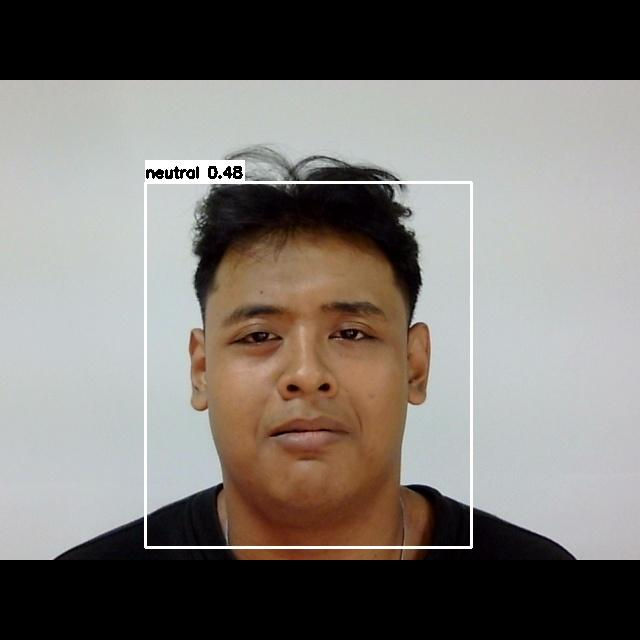Fear: (205, 275, 406, 480)
